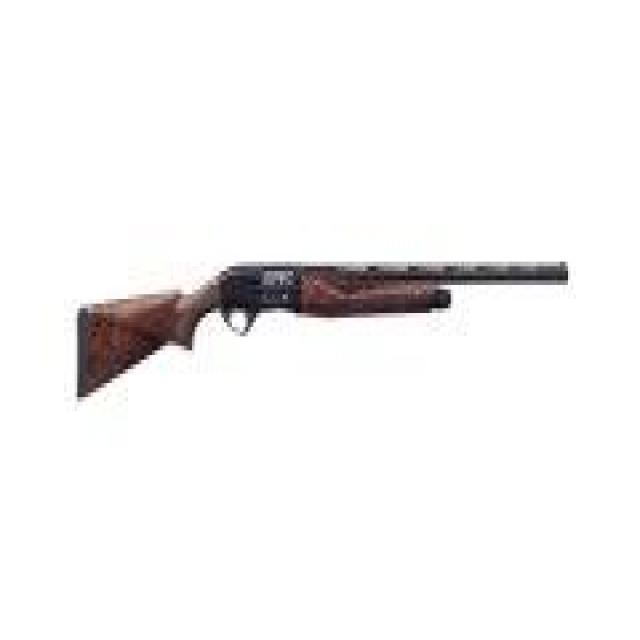rifle: (70, 243, 573, 412)
